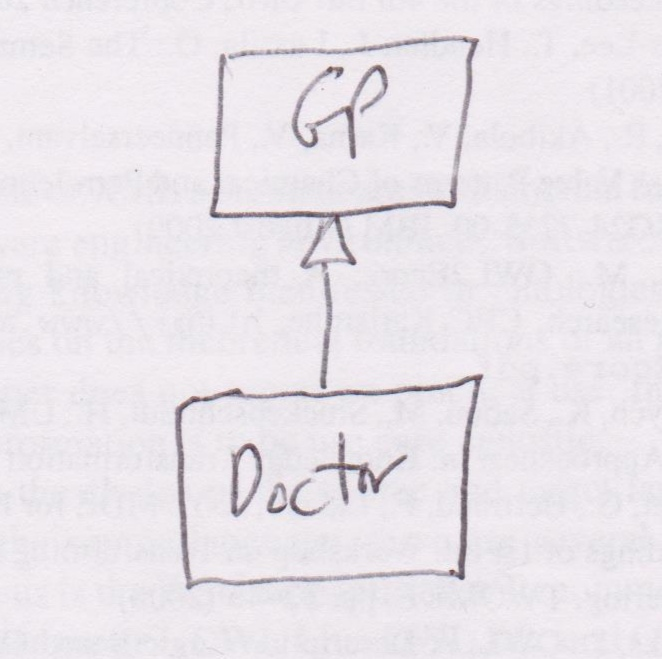inheritance: (297, 216, 356, 392)
simple class: (169, 371, 482, 587), (206, 33, 479, 220)
